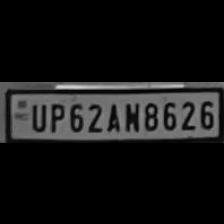2: (84, 98, 104, 130), (178, 97, 196, 129)
6: (64, 100, 84, 132), (197, 96, 215, 130), (158, 97, 176, 129)
8: (140, 98, 158, 130)
A: (104, 98, 122, 130)
N: (120, 98, 140, 130)
P: (46, 100, 64, 132)
U: (26, 99, 46, 130)
